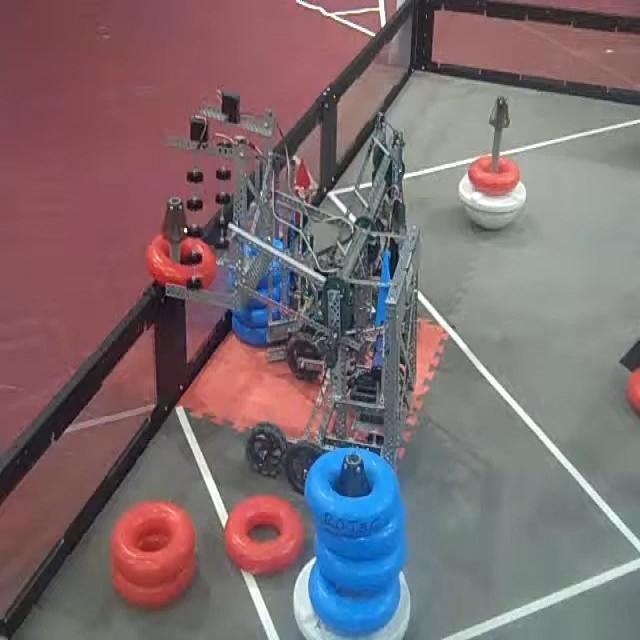Blue-Ring: (305, 448, 400, 534), (309, 553, 400, 635), (316, 528, 404, 594), (316, 508, 405, 559)
Red-Ring: (111, 502, 195, 584), (225, 495, 301, 575), (146, 233, 216, 288), (112, 566, 195, 608), (469, 157, 520, 196)
